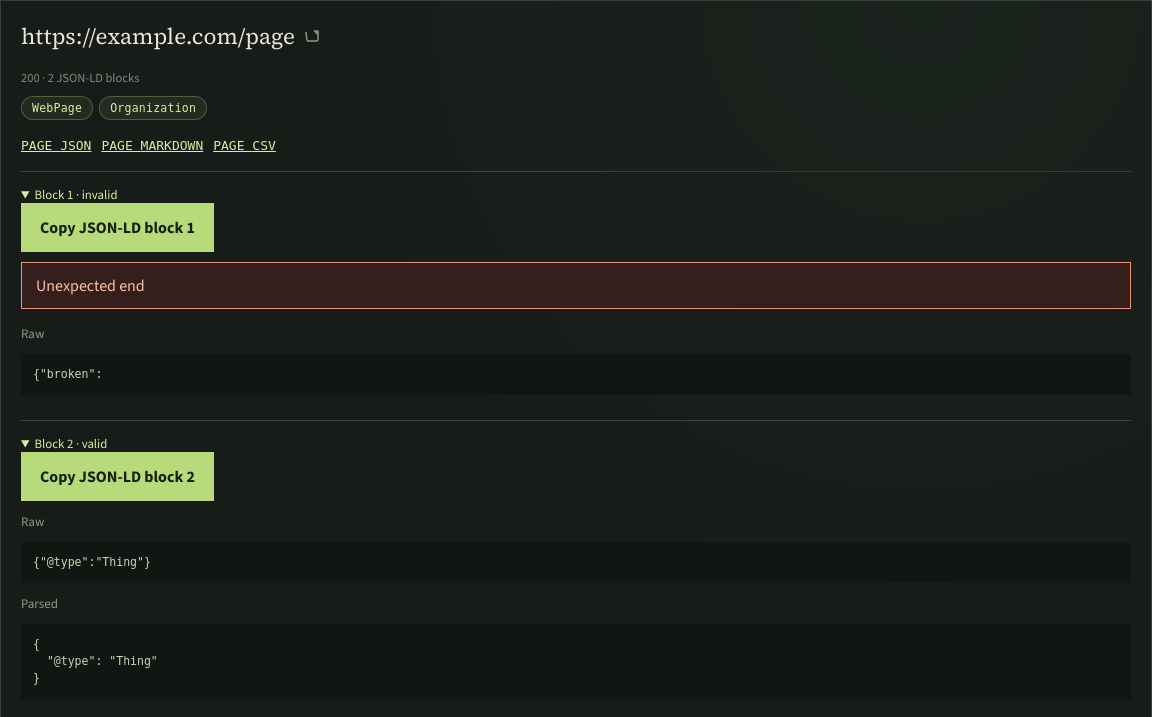
Test case: PageDetail › does not show copied when clipboard write is rejected
Click the button "Copy JSON-LD block 1" at (117, 228), box [21,203,214,252]
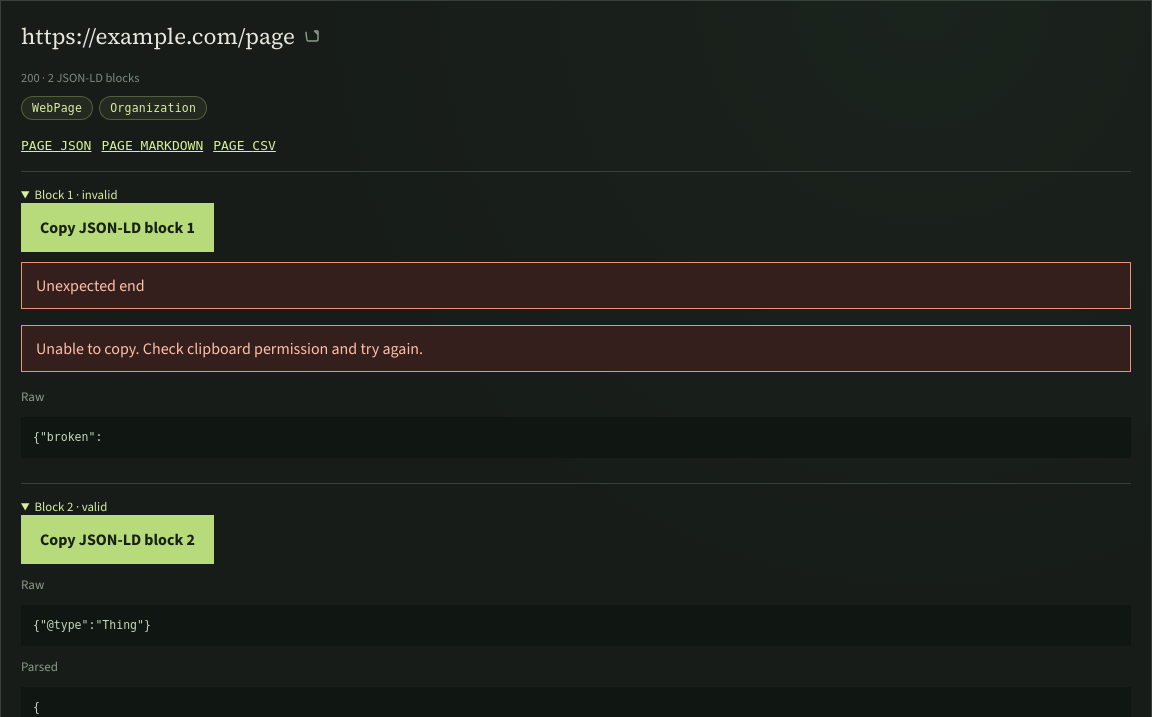
Check: the message reads "Unable to copy. Check clipboard permission and try again.", box [36,338,423,359]
